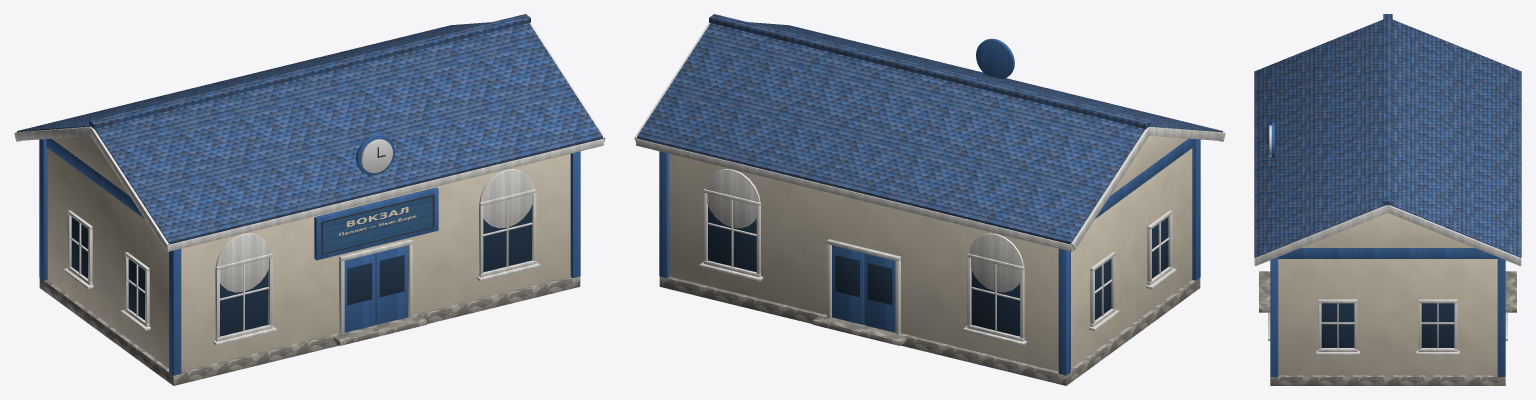
The model's file is station.glb.
3 views of the same model, side by side, from view 1: azimuth 30°, elevation 25°; view 2: azimuth 150°, elevation 25°; view 3: azimuth 270°, elevation 25° (orthographic). The views are drawn at different scales.
Parts seen in each view (by area): view 1: station; view 2: station; view 3: station.
Part boxes in pixels (x1,y1,x2,y2): station: (14, 14, 605, 385); station: (634, 14, 1225, 385); station: (1254, 14, 1521, 385).
Bounding box in the file's own units: 17.58 × 8.36 × 10.59.
Materials: 9 (9 with a texture image).
